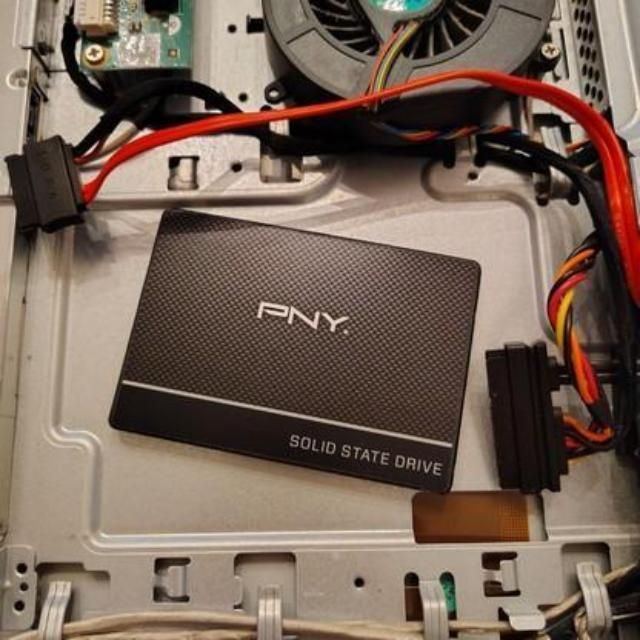DISK: (100, 193, 494, 501)
